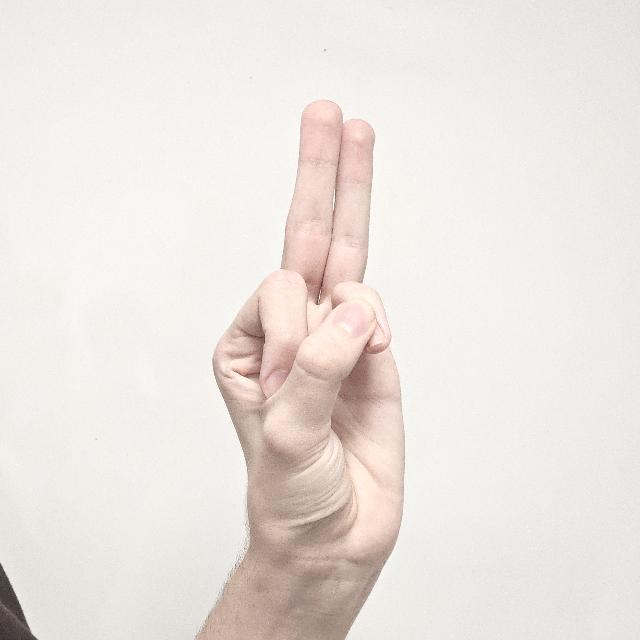R: (210, 100, 414, 566)
